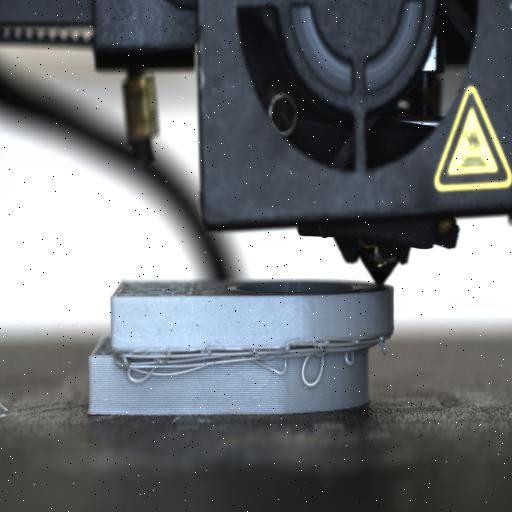layer_shift: (88, 328, 394, 368)
